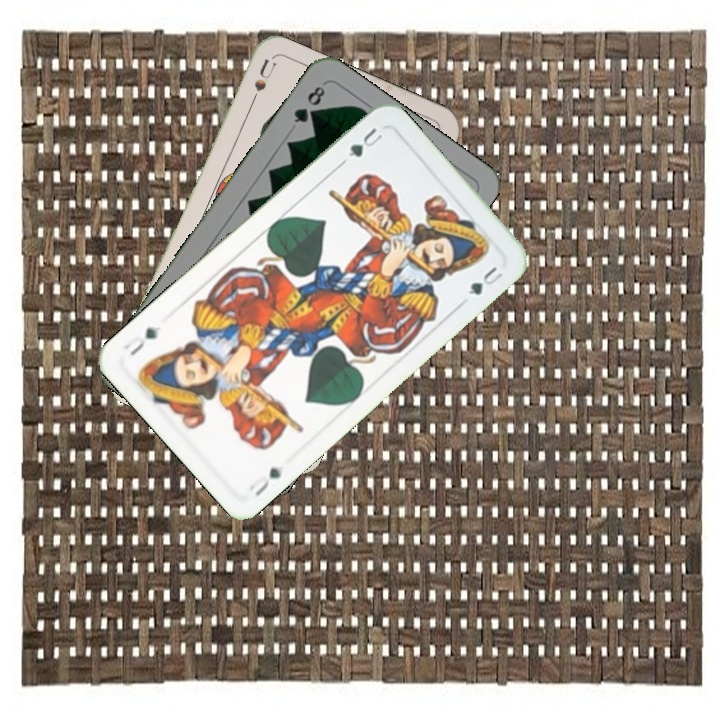G8: (289, 82, 328, 126)
GU: (344, 123, 386, 161), (244, 463, 285, 499)
SU: (244, 56, 279, 114)
